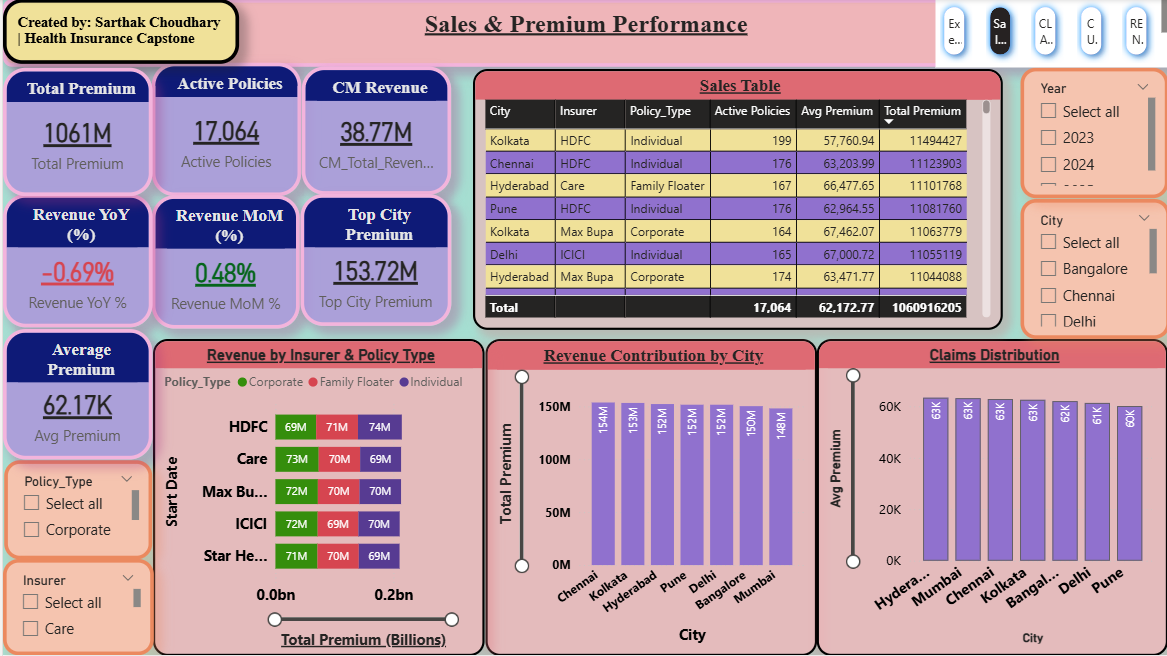

What the dashboard file says about the page in this screenshot:
{"tool":"powerbi","page":{"name":"Sales & Premium Performance","canvas":[1280,720],"ordinal":1},"visuals":[{"type":"textbox","box":[0,0,1280.3,74.1],"z":0},{"type":"card","title":"Active Policies","fields":{"Values":["All Measures.Active Policies"]},"box":[163.8,69.6,163.8,146.4],"z":1000},{"type":"card","title":"CM Revenue","fields":{"Values":["All Measures.CM_Total_Revenue"]},"box":[327.7,73.9,163.8,140.6],"z":2000},{"type":"card","title":"Revenue MoM (%) ","fields":{"Values":["All Measures.Revenue MoM %"]},"box":[163.8,216,162.4,146.4],"z":3000},{"type":"card","title":"Revenue YoY (%)","fields":{"Values":["All Measures.Revenue YoY %"]},"box":[0,214.6,163.8,146.4],"z":4000},{"type":"clusteredColumnChart","title":"Revenue Contribution by City","fields":{"Category":["dim_customer.City"],"Y":["All Measures.Total Premium"]},"box":[529.2,372.6,363.9,348],"z":5000},{"type":"barChart","title":"Revenue by Insurer & Policy Type","fields":{"Y":["All Measures.Total Premium"],"Series":["fact_policies.Policy_Type"],"Category":["dim_insurer.Insurer"]},"box":[165.3,372.6,363.9,348],"z":6000},{"type":"columnChart","title":"Claims Distribution","fields":{"Y":["All Measures.Avg Premium"],"Category":["dim_customer.City"]},"box":[893.2,372.6,385.7,348],"z":7000},{"type":"slicer","fields":{"Values":["dim_customer.City"]},"box":[1116.5,218.9,163.8,153.7],"z":8000},{"type":"slicer","fields":{"Values":["fact_policies.Policy_Type"]},"box":[1.4,506,162.4,108.7],"z":9000},{"type":"slicer","fields":{"Values":["dim_insurer.Insurer"]},"box":[0,614.8,165.3,105.8],"z":10000},{"type":"slicer","fields":{"Values":["Date Table.Year"]},"box":[1116.5,75.4,162.4,143.5],"z":11000},{"type":"textbox","box":[0,0,259.5,71],"z":12000},{"type":"tableEx","title":"Sales Table","fields":{"Values":["dim_customer.City","dim_insurer.Insurer","fact_policies.Policy_Type","All Measures.Active Policies","All Measures.Avg Premium","All Measures.Total Premium"]},"box":[516,76.8,581.8,286.8],"z":13000},{"type":"card","title":"Total Premium","fields":{"Values":["All Measures.Total Premium"]},"box":[0,75.4,163.8,140.6],"z":14000},{"type":"pageNavigator","box":[1023.7,0,256.6,75.4],"z":15000},{"type":"card","title":"Average Premium","fields":{"Values":["All Measures.Avg Premium"]},"box":[0,362.5,163.8,143.5],"z":16000},{"type":"card","title":"Top City Premium","fields":{"Values":["All Measures.Top City Premium"]},"box":[326.2,214.6,165.3,145],"z":17000}]}

Visuals, with their boxes in screenshot pixels (x1, y1, x2, y2), scaled from the page's 1280x720 canvas onto the 1167x656 screenshot:
textbox: x1=0 y1=0 x2=1166 y2=68
"Active Policies" card: x1=149 y1=63 x2=299 y2=197
"CM Revenue" card: x1=299 y1=67 x2=448 y2=195
"Revenue MoM (%) " card: x1=149 y1=197 x2=297 y2=330
"Revenue YoY (%)" card: x1=0 y1=196 x2=149 y2=329
"Revenue Contribution by City" clusteredColumnChart: x1=482 y1=339 x2=814 y2=655
"Revenue by Insurer & Policy Type" barChart: x1=151 y1=339 x2=482 y2=655
"Claims Distribution" columnChart: x1=814 y1=339 x2=1166 y2=655
slicer - dim_customer.City: x1=1018 y1=199 x2=1166 y2=339
slicer - fact_policies.Policy_Type: x1=1 y1=461 x2=149 y2=560
slicer - dim_insurer.Insurer: x1=0 y1=560 x2=151 y2=655
slicer - Date Table.Year: x1=1018 y1=69 x2=1166 y2=199
textbox: x1=0 y1=0 x2=237 y2=65
"Sales Table" tableEx: x1=470 y1=70 x2=1001 y2=331
"Total Premium" card: x1=0 y1=69 x2=149 y2=197
pageNavigator: x1=933 y1=0 x2=1166 y2=69
"Average Premium" card: x1=0 y1=330 x2=149 y2=461
"Top City Premium" card: x1=297 y1=196 x2=448 y2=328
